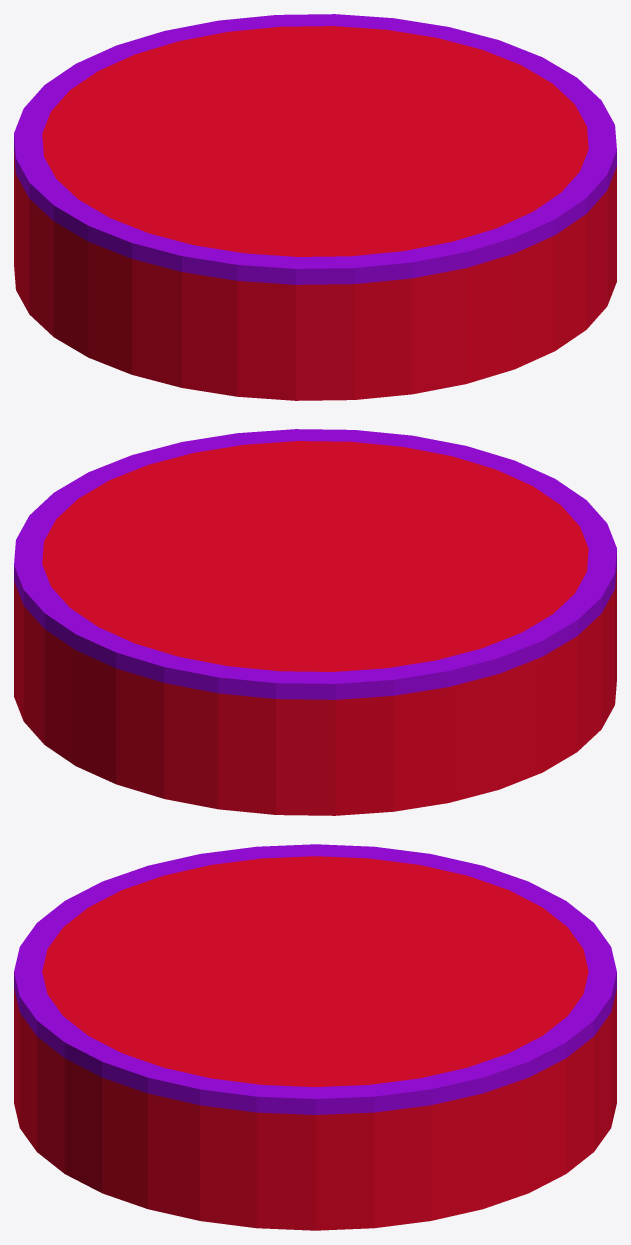
File: ButtonModel.fbx
3 views of the same model, one above another, from view 1: azimuth 30°, elevation 25°; view 2: azimuth 150°, elevation 25°; view 3: azimuth 270°, elevation 25° (orthographic).
Parts seen in each view (by area): view 1: Button; view 2: Button; view 3: Button.
Part boxes in pixels (<box>): Button: <box>14,14,616,400</box>; Button: <box>14,429,616,815</box>; Button: <box>14,844,616,1230</box>.
Size of the model in its own units: 200 by 48.17 by 200.
